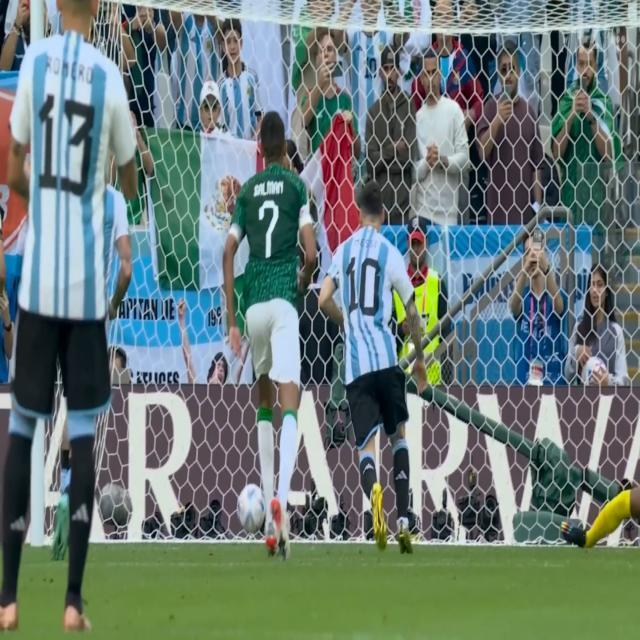football: (239, 479, 269, 535)
